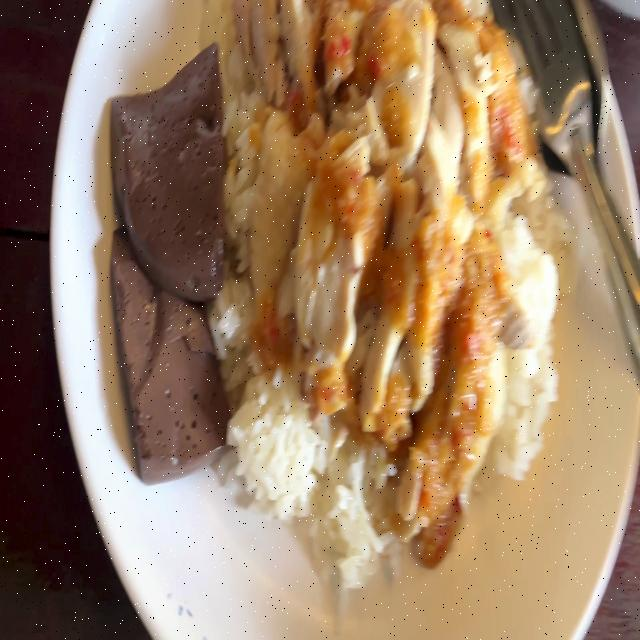boiled_chicken: (239, 1, 510, 393)
boiled_chicken_blood_jelly: (105, 41, 224, 292), (108, 213, 224, 465)
chicken_rice: (114, 0, 574, 596)
